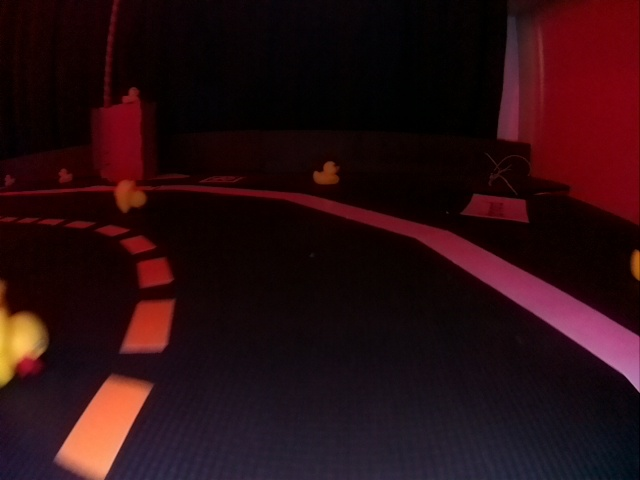Duckie: (1, 283, 51, 374), (113, 182, 147, 210), (313, 161, 343, 183)
QR code: (201, 175, 244, 185)
